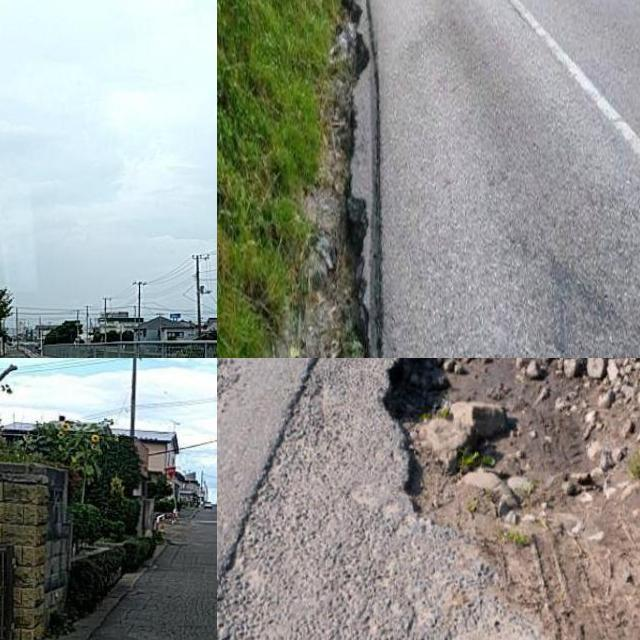Pinggir: (367, 358, 612, 627), (306, 0, 430, 358)
